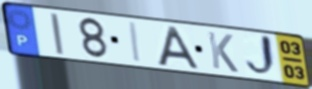8: (77, 16, 111, 60)
A: (156, 25, 202, 72)
I: (48, 11, 67, 56), (129, 20, 144, 65)
J: (244, 33, 280, 79)
K: (206, 30, 241, 75)
